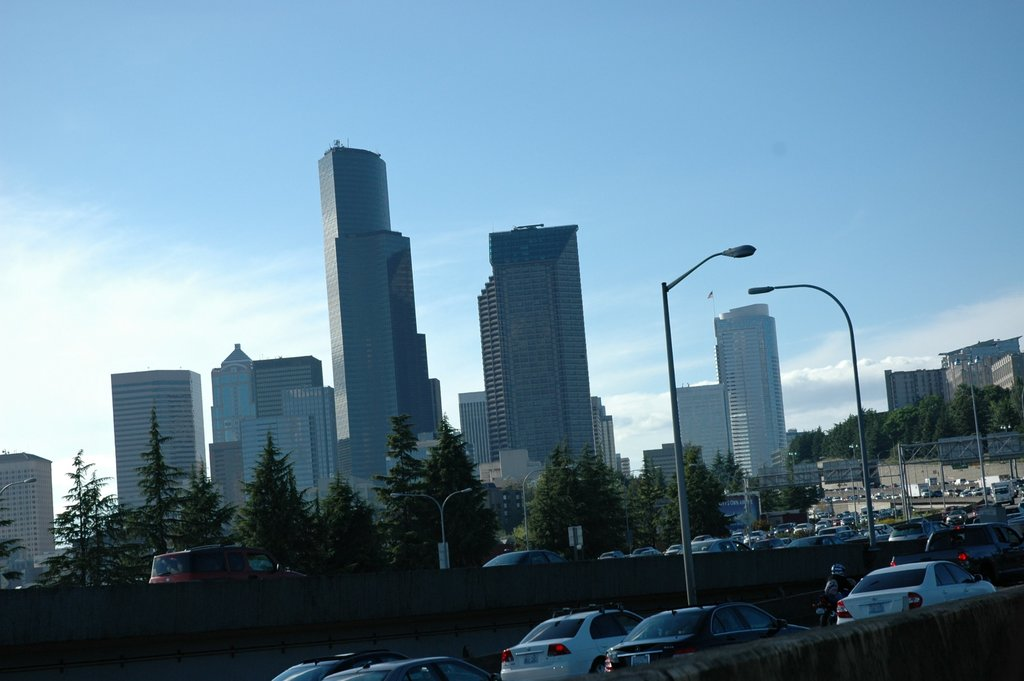Car: (606, 606, 819, 680), (817, 555, 1002, 639), (503, 607, 636, 680), (150, 546, 307, 583), (266, 648, 401, 680), (327, 657, 496, 680), (479, 543, 595, 563), (885, 518, 936, 542)
